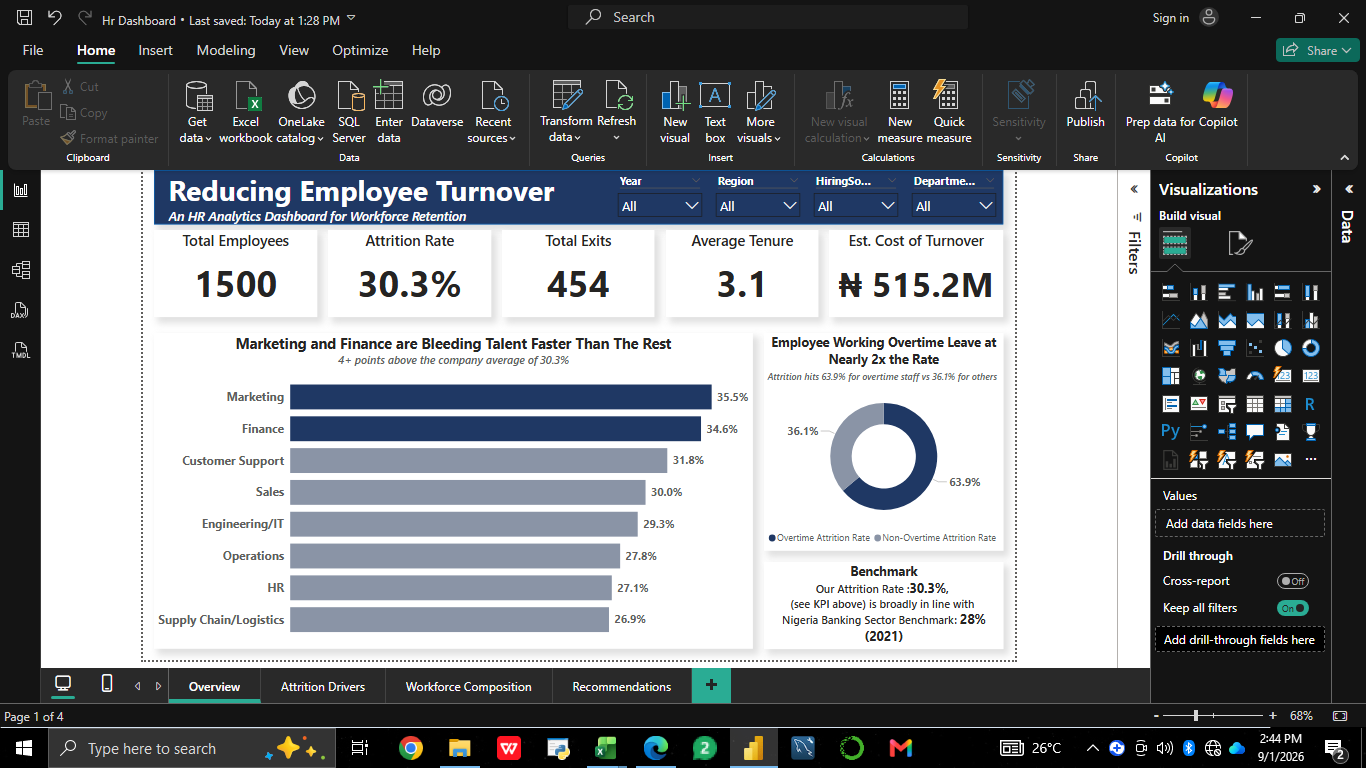

The page's visual inventory and layout, read from the dashboard file:
{"tool":"powerbi","page":{"name":"Overview","canvas":[1280,720],"ordinal":0},"visuals":[{"type":"shape","box":[16,0,1248,80],"z":0},{"type":"barChart","title":"Marketing and Finance are Bleeding Talent Faster Than The Rest","fields":{"Y":["Measure.Attrition Rate"],"Category":["Employee_Data.Department"]},"box":[16,240,880,464],"z":1000},{"type":"card","title":"Total Employees","fields":{"Values":["Measure.Total Employees"]},"box":[16,88.2,240,128],"z":2000},{"type":"card","title":"Attrition Rate","fields":{"Values":["Measure.Attrition Rate"]},"box":[272,88.2,240,128],"z":3000},{"type":"card","title":"Total Exits","fields":{"Values":["Measure.Total Exits"]},"box":[528,88.2,224,128],"z":4000},{"type":"card","title":"Average Tenure","fields":{"Values":["Measure.Average Tenure"]},"box":[768,88.2,224,128],"z":5000},{"type":"card","title":"Est. Cost of Turnover","fields":{"Values":["Measure.Est. Cost of Turnover"]},"box":[1008,88.2,256,128],"z":6000},{"type":"donutChart","title":"Employee Working Overtime Leave at Nearly 2x the Rate","fields":{"Y":["Measure.Overtime Attrition Rate","Measure.Non-Overtime Attrition Rate"]},"box":[912,240,352,320],"z":7000},{"type":"textbox","title":"Benchmark","box":[912,576,352,128],"z":8000},{"type":"slicer","fields":{"Values":["Employee_Data.HiringSource"]},"box":[976,0,144,80],"z":9000},{"type":"slicer","fields":{"Values":["Employee_Data.Region"]},"box":[832,0,144,80],"z":10000},{"type":"slicer","fields":{"Values":["Employee_Data.Department"]},"box":[1120,0,144,80],"z":11000},{"type":"slicer","fields":{"Values":["CALENDER.Year"]},"box":[688,0,144,80],"z":12000},{"type":"textbox","title":"Reducing Employee Turnover","box":[32,0,624,80],"z":13000}]}

Visuals, with their boxes on the page's 1280x720 design canvas (x1, y1, x2, y2). These are canvas units, not pixel positions in the 1366x768 screenshot, which may show the page scaled, cropped or inside an application window:
shape: pyautogui.locateOnScreen(16, 0, 1264, 80)
"Marketing and Finance are Bleeding Talent Faster Than The Rest" barChart: pyautogui.locateOnScreen(16, 240, 896, 704)
"Total Employees" card: pyautogui.locateOnScreen(16, 88, 256, 216)
"Attrition Rate" card: pyautogui.locateOnScreen(272, 88, 512, 216)
"Total Exits" card: pyautogui.locateOnScreen(528, 88, 752, 216)
"Average Tenure" card: pyautogui.locateOnScreen(768, 88, 992, 216)
"Est. Cost of Turnover" card: pyautogui.locateOnScreen(1008, 88, 1264, 216)
"Employee Working Overtime Leave at Nearly 2x the Rate" donutChart: pyautogui.locateOnScreen(912, 240, 1264, 560)
"Benchmark" textbox: pyautogui.locateOnScreen(912, 576, 1264, 704)
slicer - Employee_Data.HiringSource: pyautogui.locateOnScreen(976, 0, 1120, 80)
slicer - Employee_Data.Region: pyautogui.locateOnScreen(832, 0, 976, 80)
slicer - Employee_Data.Department: pyautogui.locateOnScreen(1120, 0, 1264, 80)
slicer - CALENDER.Year: pyautogui.locateOnScreen(688, 0, 832, 80)
"Reducing Employee Turnover" textbox: pyautogui.locateOnScreen(32, 0, 656, 80)
